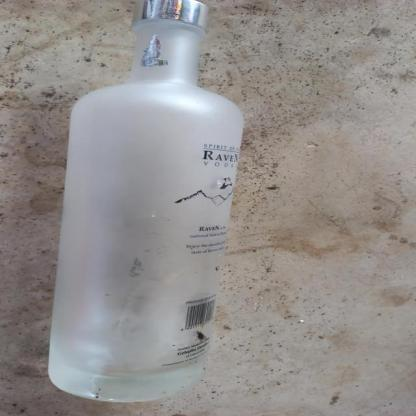Can: (47, 0, 277, 409)
